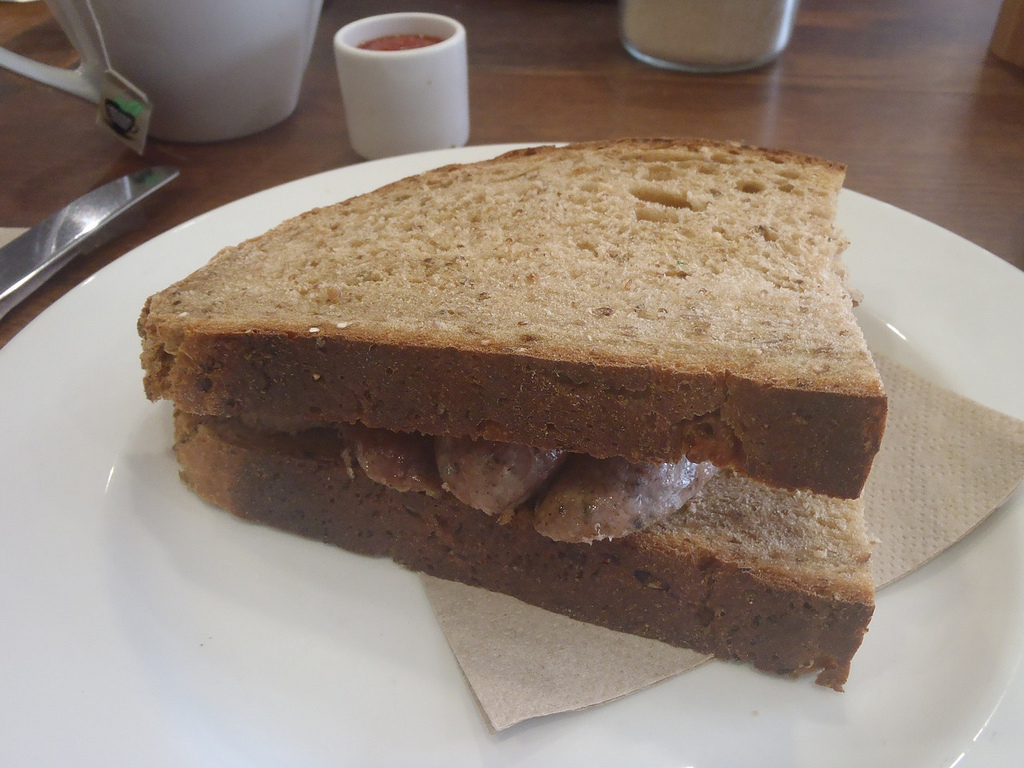slice of bread: (130, 138, 891, 493), (170, 481, 887, 701)
